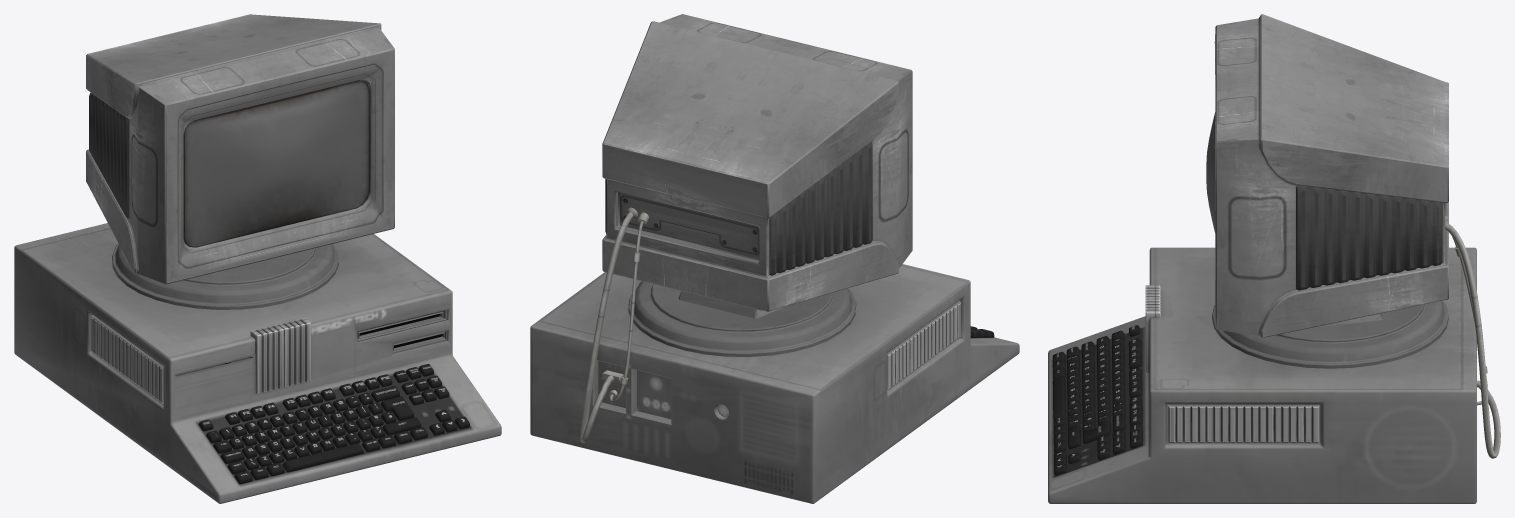
Rendered from retro_PC.glb.
3 views of the same model, side by side, from view 1: azimuth 30°, elevation 25°; view 2: azimuth 150°, elevation 25°; view 3: azimuth 270°, elevation 25° (orthographic). The views are drawn at different scales.
Parts seen in each view (by area): view 1: Plane_Computer_midtech_0; view 2: Plane_Computer_midtech_0; view 3: Plane_Computer_midtech_0.
Boxes of the visible parts, x1=… form: Plane_Computer_midtech_0: x1=14, y1=14, x2=501, y2=503; Plane_Computer_midtech_0: x1=530, y1=14, x2=1019, y2=503; Plane_Computer_midtech_0: x1=1048, y1=14, x2=1500, y2=503.
Size of the model in its own units: 1.76 by 2.03 by 2.34.
1 material, 1 textured.
